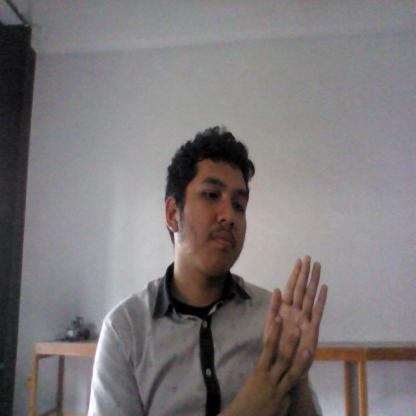M: (249, 247, 334, 413)
